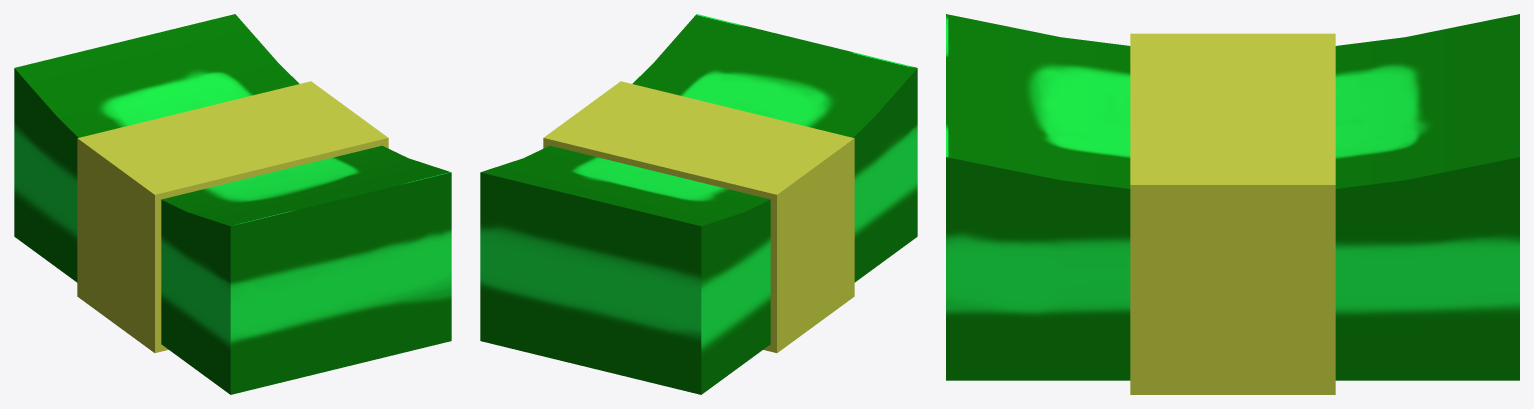
The model's file is Para.fbx.
The picture shows the model from 3 angles, left to right: view 1: azimuth 30°, elevation 25°; view 2: azimuth 150°, elevation 25°; view 3: azimuth 270°, elevation 25°; orthographic projection. The views are drawn at different scales.
Visible parts, largest first — view 1: Cube; view 2: Cube; view 3: Cube.
Boxes of the visible parts, x1,y1,x2,y2 form: Cube: (14, 14, 451, 394); Cube: (480, 14, 917, 394); Cube: (946, 14, 1519, 394).
Size of the model in its own units: 211 by 152 by 339.
